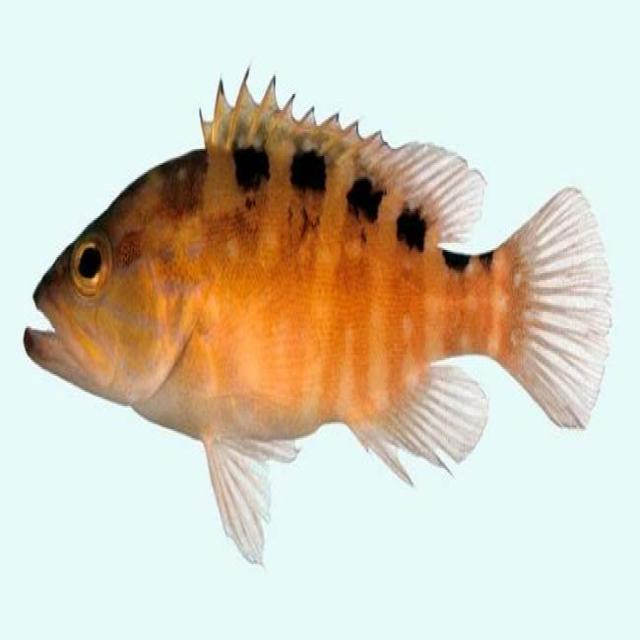ikan: (23, 71, 620, 582)
